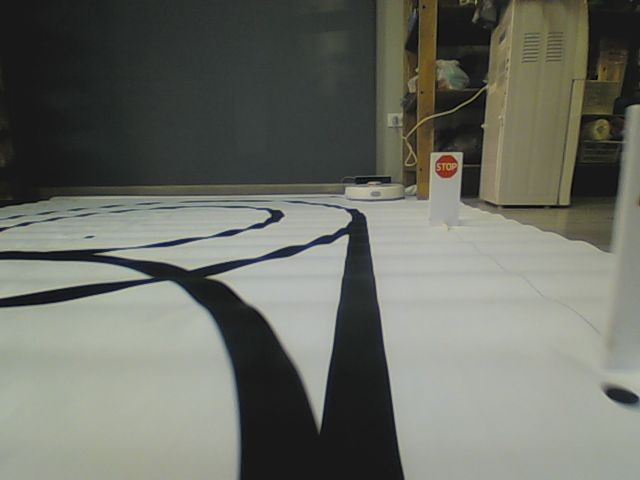Stop: (434, 153, 458, 179)
